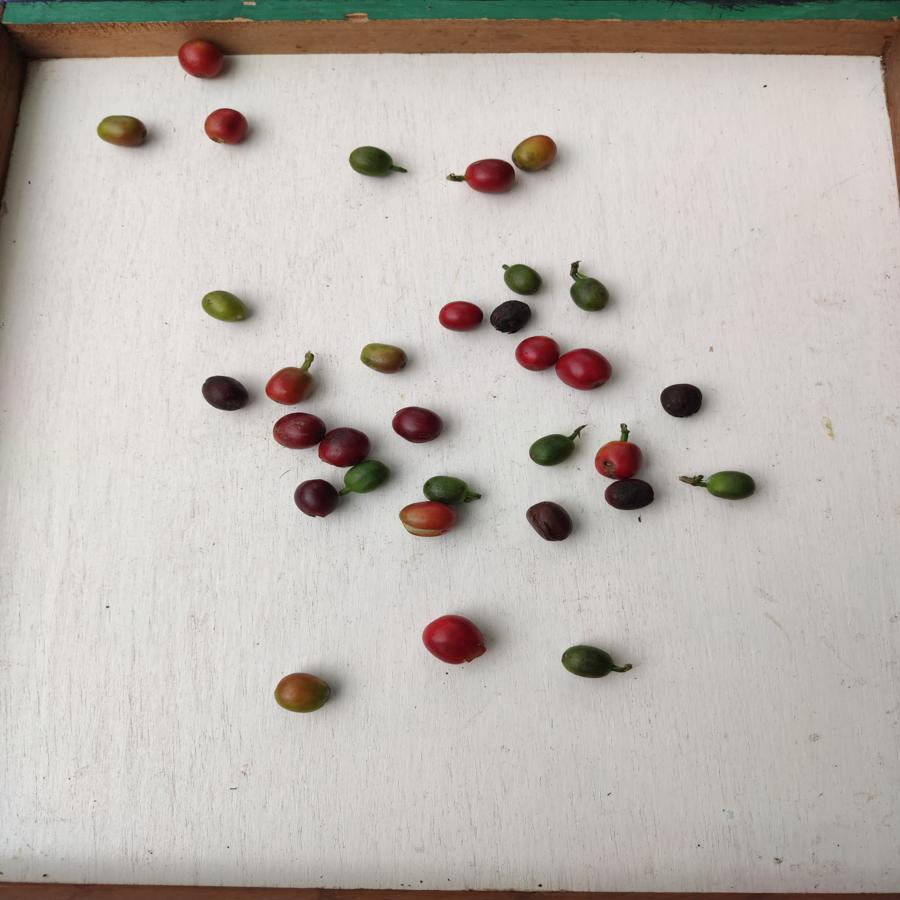Inmaduro: (557, 642, 621, 683), (701, 467, 758, 501), (418, 474, 475, 507), (527, 432, 577, 467), (348, 145, 397, 180), (567, 274, 610, 313), (345, 462, 393, 496), (502, 263, 544, 296)
Maduro: (420, 613, 486, 665), (555, 347, 612, 391), (175, 36, 228, 79), (594, 438, 645, 479), (462, 157, 515, 194), (264, 366, 314, 405), (402, 504, 460, 537), (203, 106, 252, 143), (515, 335, 559, 374), (439, 301, 484, 331)
Pinton: (270, 671, 335, 713), (94, 114, 153, 152), (199, 287, 250, 326), (356, 340, 411, 374), (511, 134, 556, 174)
Sobremaduro: (600, 476, 660, 516), (392, 403, 446, 445), (293, 479, 342, 525), (655, 379, 707, 422), (524, 499, 576, 541), (273, 412, 327, 452), (199, 375, 254, 413), (322, 426, 371, 463), (488, 300, 532, 333)
